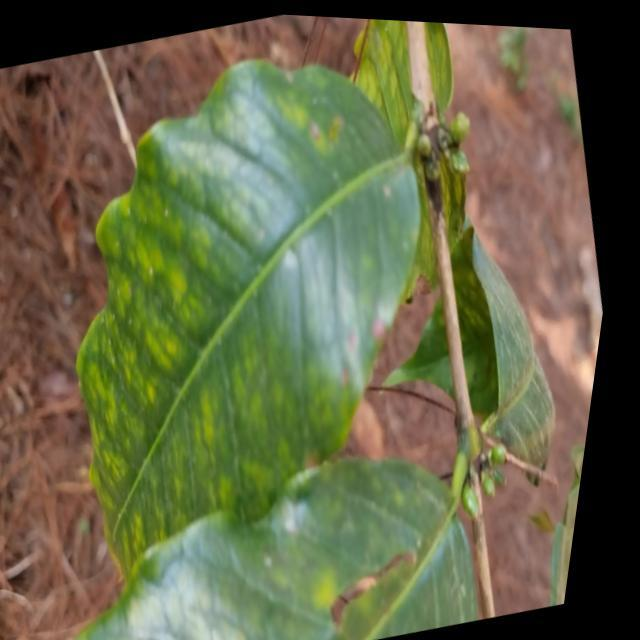leaves: (0, 14, 468, 627), (65, 440, 496, 640)
